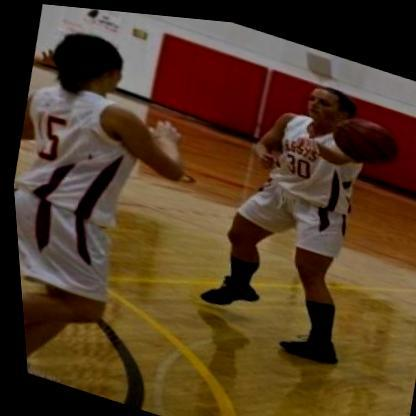basketball: (325, 100, 408, 170)
